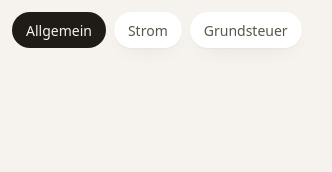
Test: clicking a chip selects that subcategory
Later steps or results of the test are not shown.
Click the button "Strom" at x=148, y=30, box [114,12,182,48]
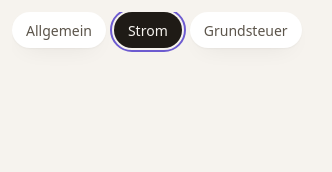
Result: the button "Strom" is pressed at [114,12,182,48]
